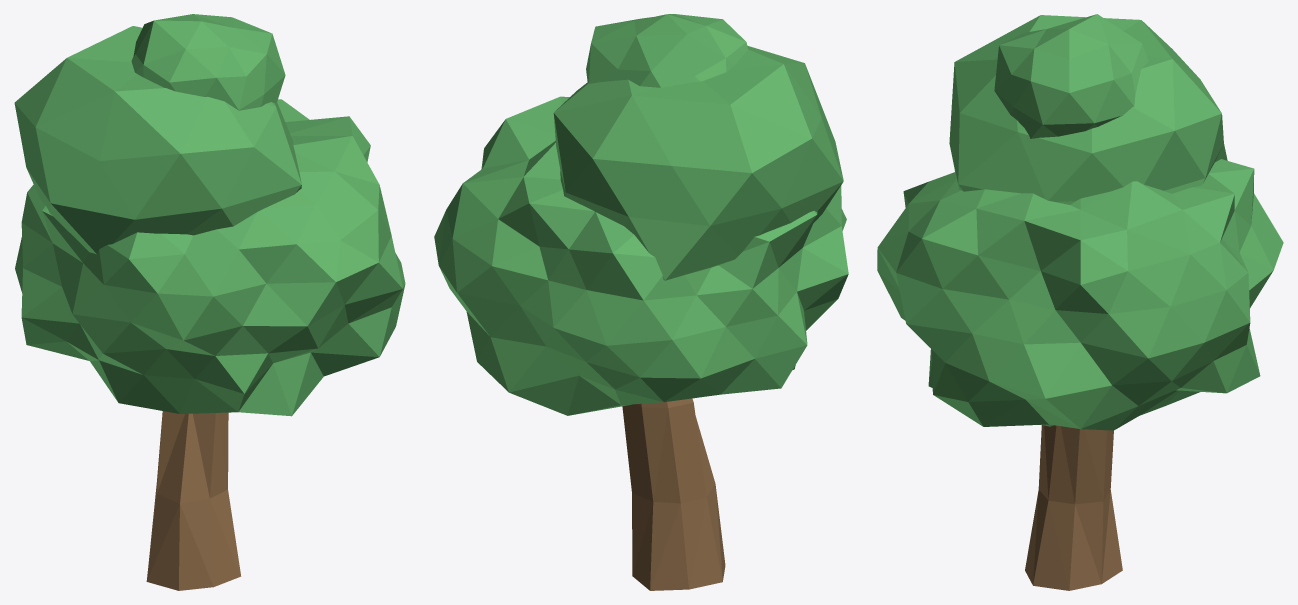
The model's file is arbre_01.glb.
3 renders of one model, left to right at view 1: azimuth 30°, elevation 25°; view 2: azimuth 150°, elevation 25°; view 3: azimuth 270°, elevation 25°, orthographic.
Visible parts, largest first — view 1: arbre_01; view 2: arbre_01; view 3: arbre_01.
Boxes of the visible parts, x1,y1,x2,y2 form: arbre_01: (14, 14, 405, 590); arbre_01: (434, 14, 848, 590); arbre_01: (877, 14, 1283, 590).
Bounding box in the file's own units: 3.38 × 5 × 3.37.
